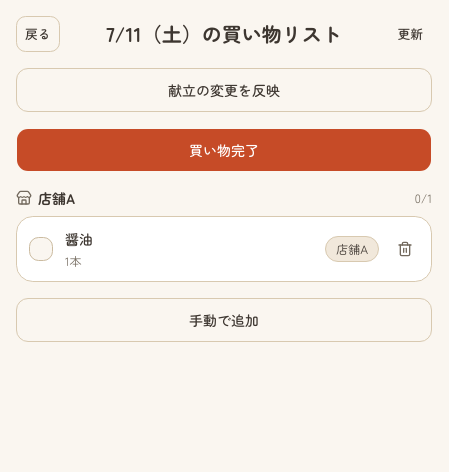
Scenario: ShoppingListClient（オフライン書き込みキュー結合シナリオ） › LCQ-01: オフラインでチェック後、チェック状態が保持されバナーが出る（未同期の行表示は Step 4 で検証）
The width and height of the screenshot is (449, 472).
Step 1. Click the checkbox named "醤油" → (41, 249), box 29,237 -> 53,261
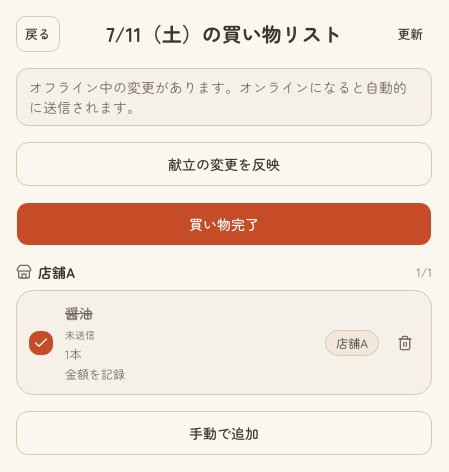
Check: the text "オフライン中の変更があります。オンラインになると自動的に送信されます。" is shown, box 16,68 -> 432,126
